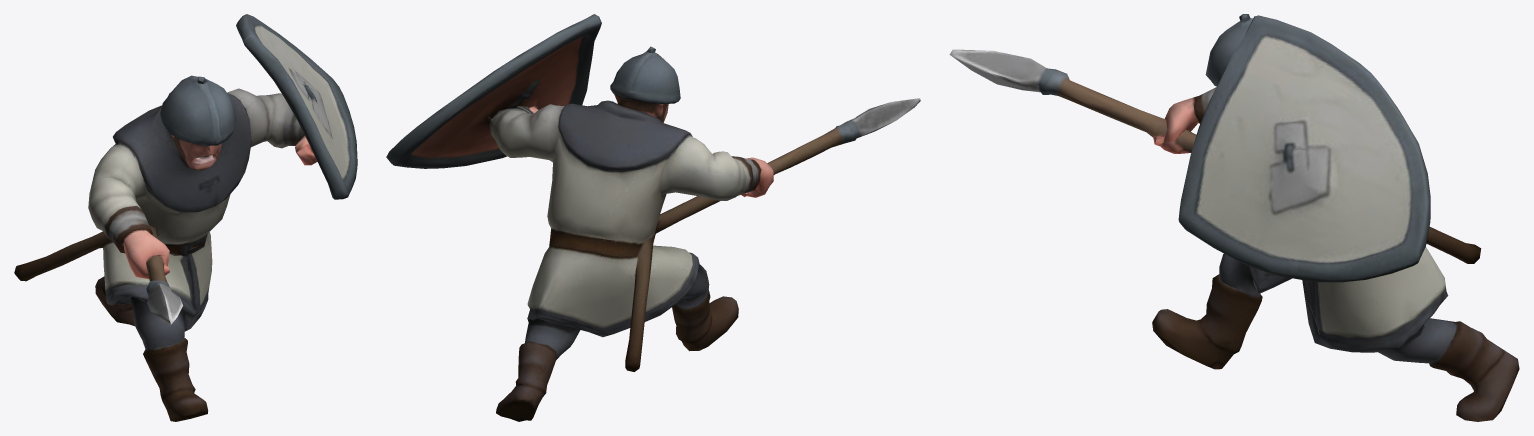
File: free_spears_strike.glb
The picture shows the model from 3 angles, left to right: view 1: azimuth 30°, elevation 25°; view 2: azimuth 150°, elevation 25°; view 3: azimuth 270°, elevation 25°; orthographic projection. The views are drawn at different scales.
Visible parts, largest first — view 1: world; view 2: world; view 3: world.
Part boxes in pixels (bbox=[...]): world: bbox=[14, 14, 357, 421]; world: bbox=[386, 14, 920, 421]; world: bbox=[949, 14, 1519, 421].
Size of the model in its own units: 0.7854 by 0.7204 by 0.9131.
Materials: 1 (1 with a texture image).
